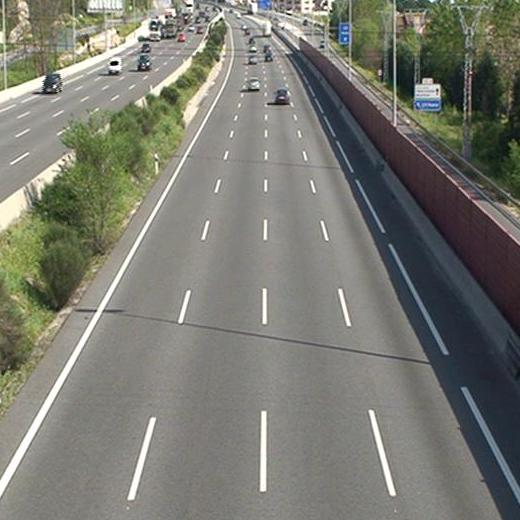car: (274, 88, 289, 103), (247, 77, 259, 90), (247, 55, 255, 62), (263, 53, 271, 60)
